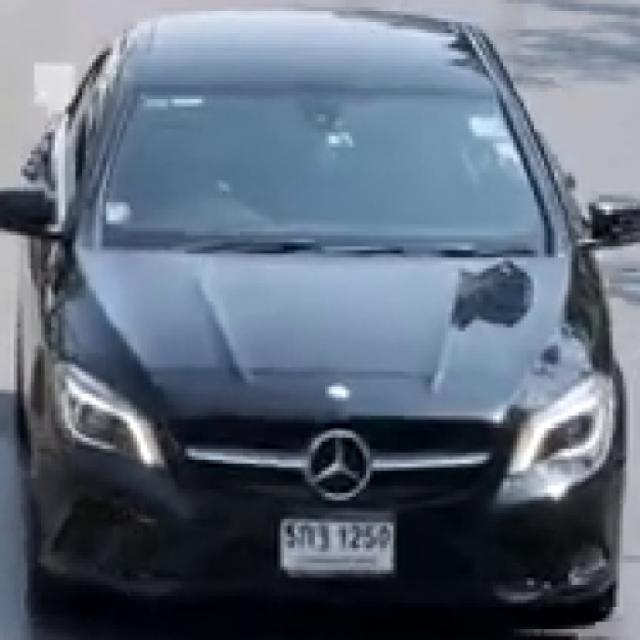plate: (279, 516, 395, 577)
